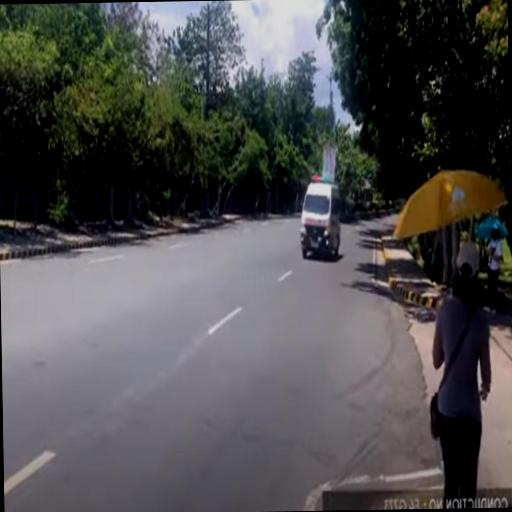Police car: (298, 176, 343, 262)
